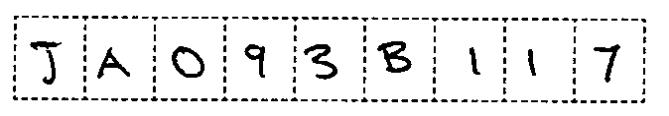0: (167, 40, 210, 84)
1: (455, 40, 490, 82), (515, 43, 546, 82)
3: (301, 40, 346, 86)
7: (592, 41, 625, 86)
9: (238, 38, 275, 87)
A: (94, 44, 139, 87)
B: (371, 35, 423, 77)
J: (23, 34, 68, 92)
